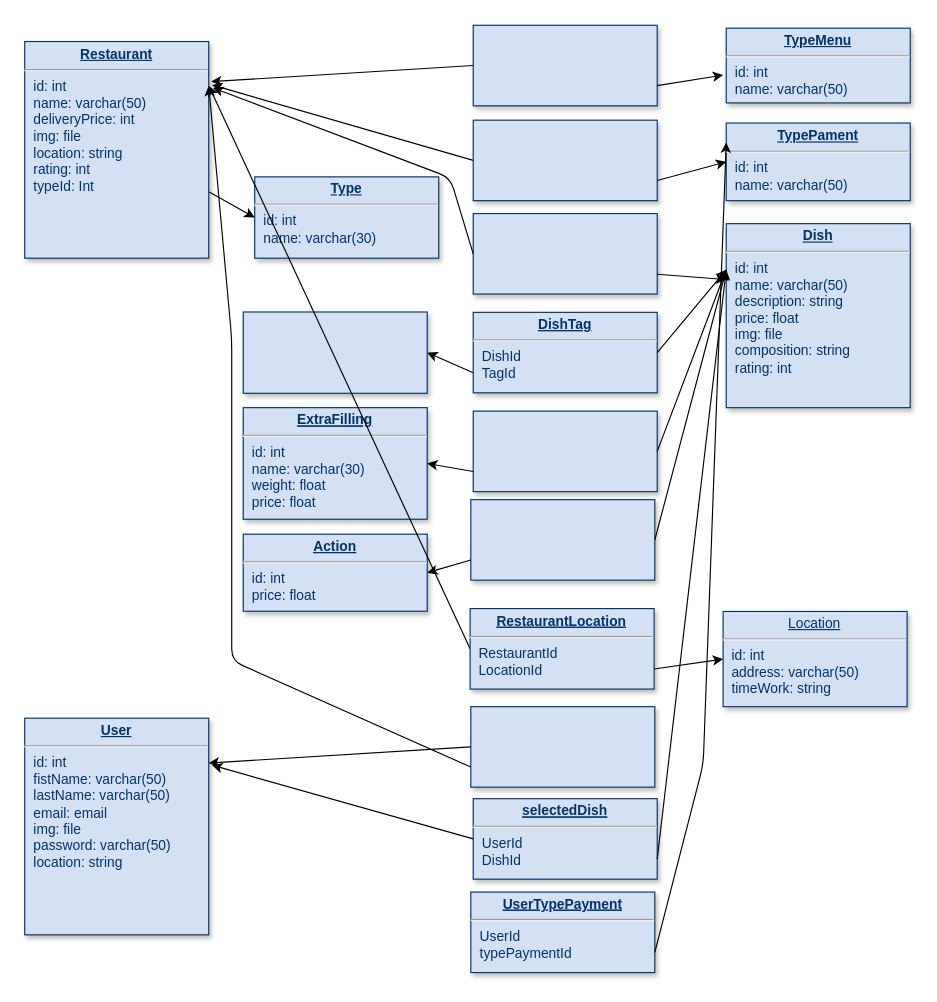
Some shapes in this 937 by 1002 pixel diagram are drawn without their labels. The shapes that lost their labels are listed below. From the top down, each one's centre as x and y in pixels, then its label:
pixel 565 67: RestaurantTypeMenu RestaurantId typeId
pixel 565 161: RestaurantTypePayment RestaurantId typePaymentId
pixel 565 255: RestaurantDish RestaurantId DishId
pixel 335 353: Tag id: int name: varchar(30)
pixel 565 452: Dish ExtraFilling DishId ExtraFillingId
pixel 563 541: Dish Action DishId ActionId
pixel 563 748: selectedRestaurant UserId RestaurantId
